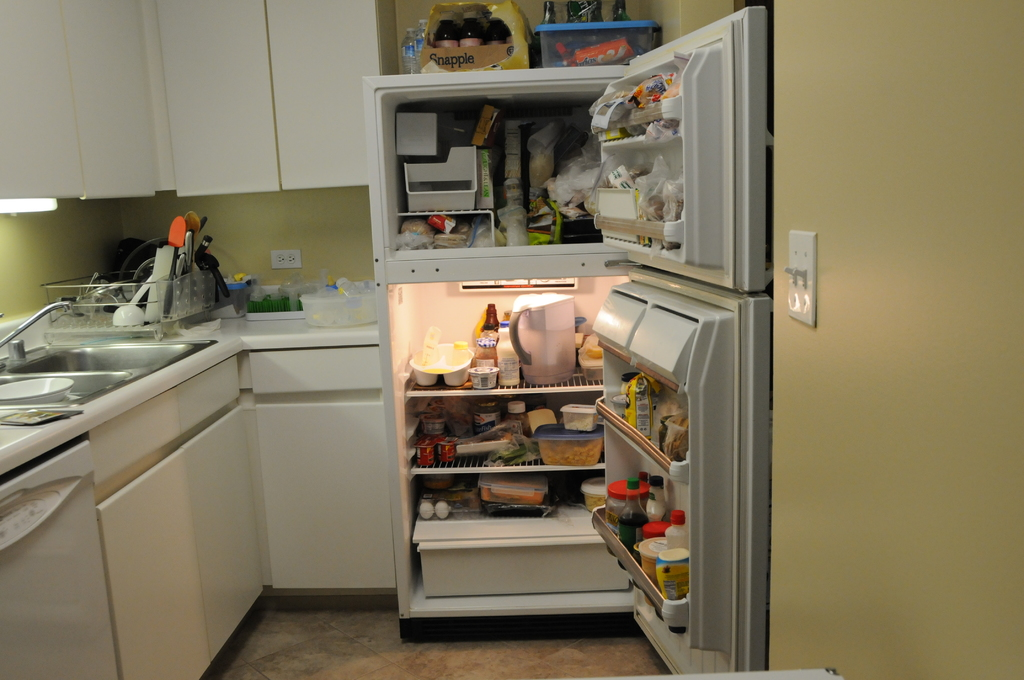cabinet door: (90, 457, 255, 666), (239, 394, 391, 584), (164, 7, 267, 198), (279, 3, 365, 188)
refrigerator door: (619, 294, 777, 666), (614, 64, 760, 265)
